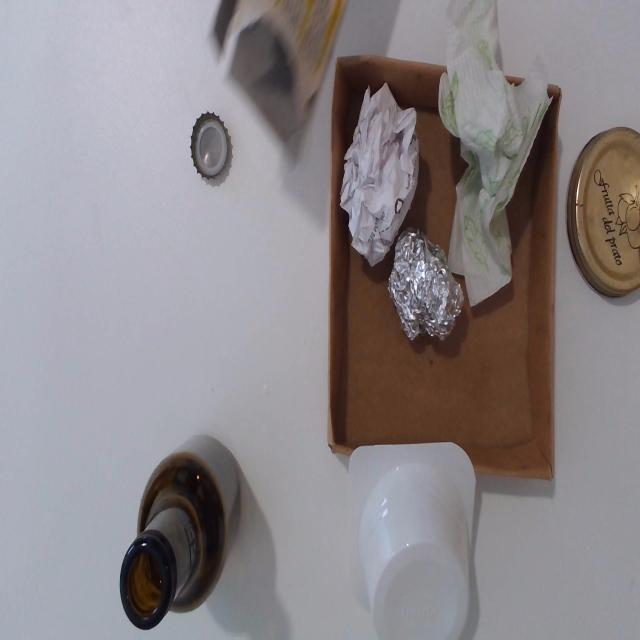Glass: (121, 432, 243, 637)
Plastic: (344, 438, 478, 640)
